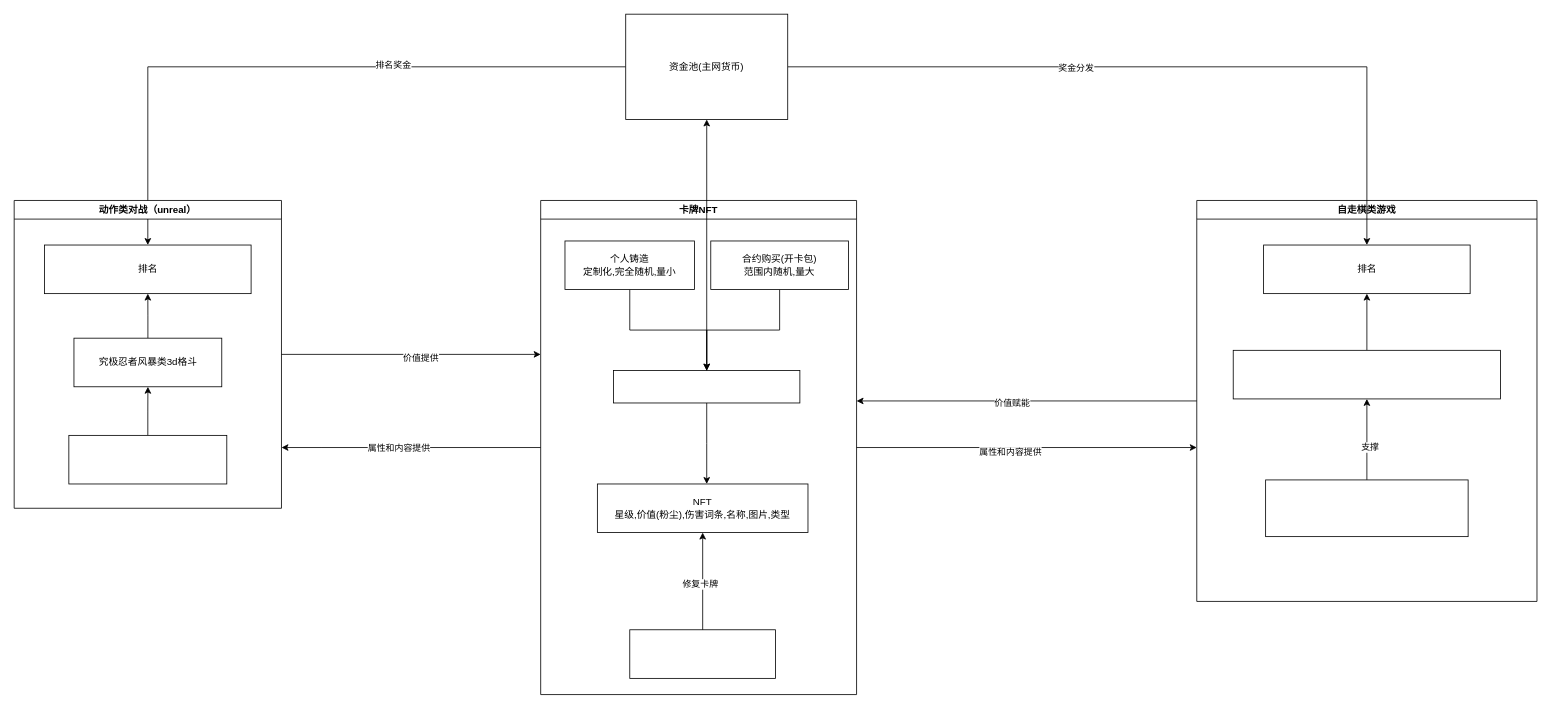
This 1551x709 diagram has some shape labels left out. The centre of each missing label's shape, as x and y in pixels:
"产出" goes at (x=706, y=386).
"伤害词条以及卡组构建" goes at (x=1366, y=508).
"卡牌词条和类型对应不同的动作和伤害属性" goes at (x=147, y=459).
"治理货币(粉尘)" goes at (x=702, y=653).
"类游戏王炉石玩法" goes at (x=1366, y=374).
